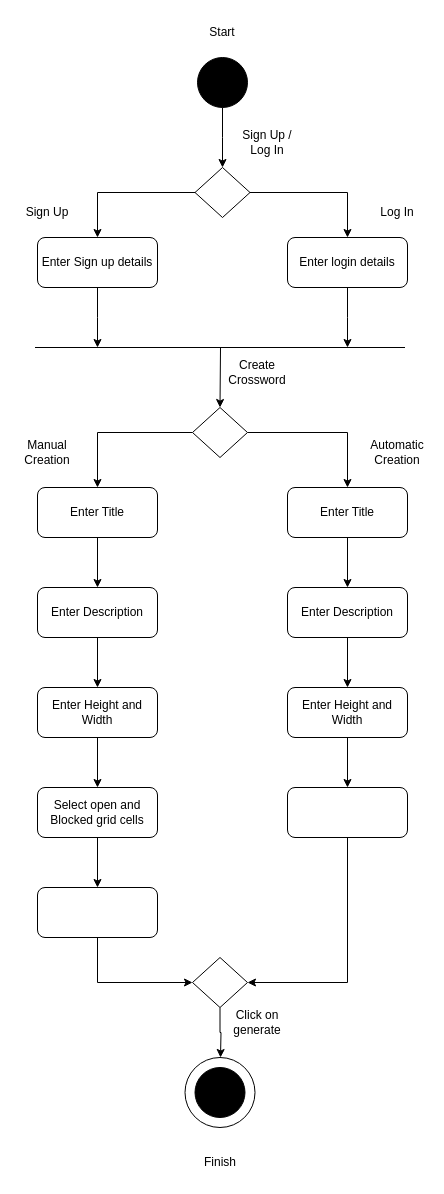
The diagram is 444 pixels wide and 1194 high, and some of its shapes have lost their labels. The box of each missing label's shape, as (x1, y1, x2, y2) in pixels:
Enter Clues: (36, 886, 158, 938)
Provide Clues and their corresponding answers: (286, 786, 408, 838)
